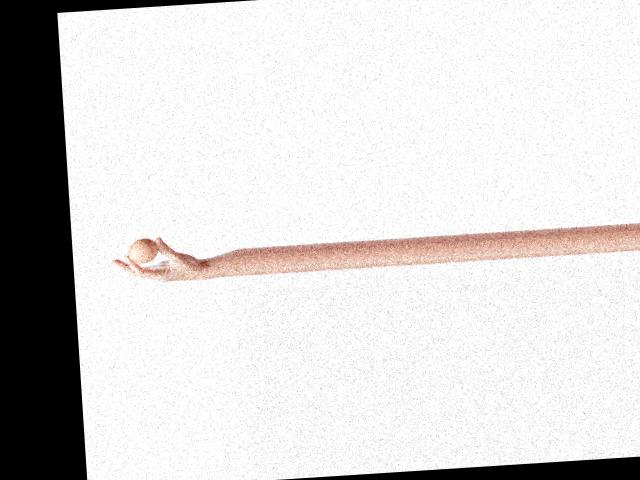egg: (127, 237, 159, 263)
